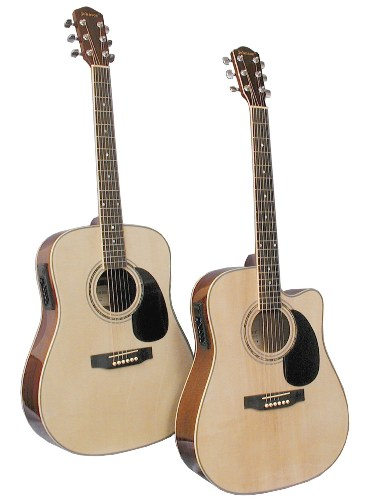guitar: (19, 6, 199, 458), (181, 48, 350, 493)
